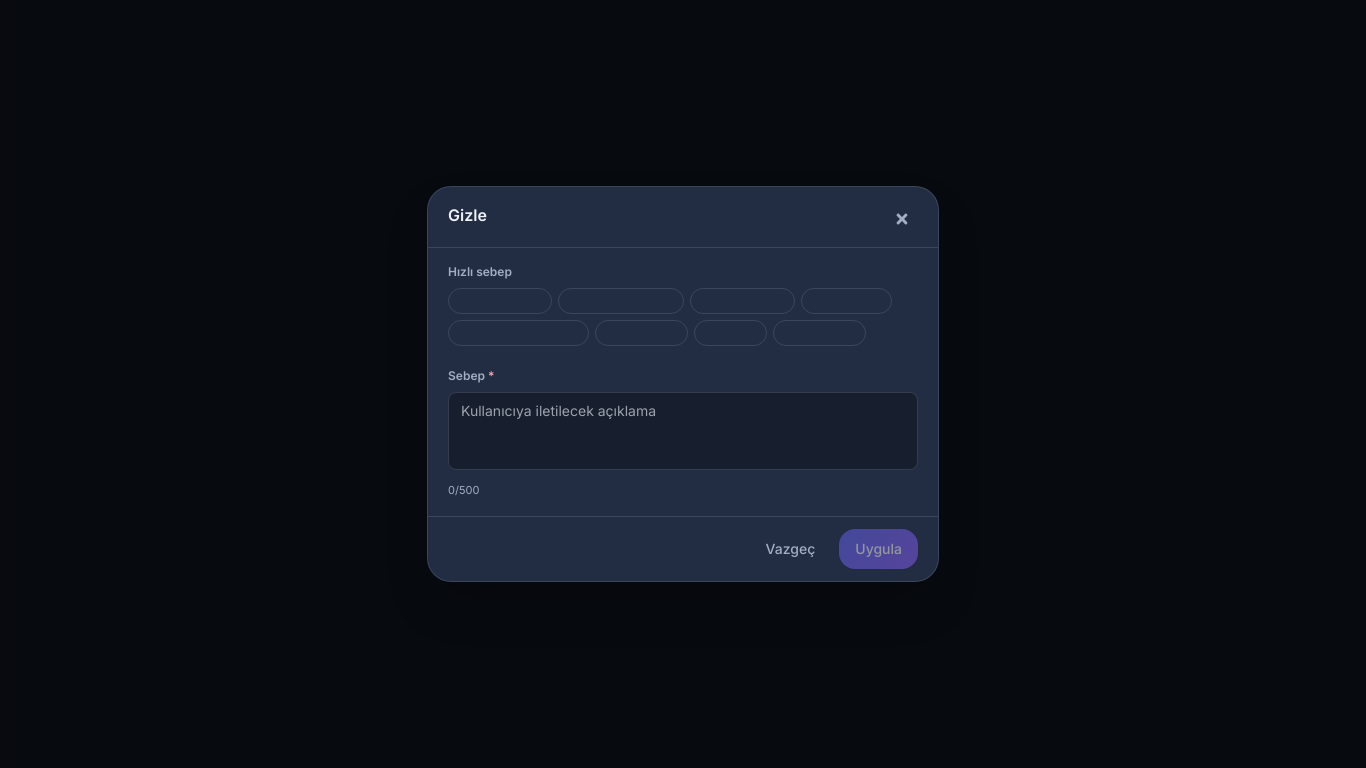
Test: ReasonDialog › sebep 3 karakterden kısaysa gönderilemez
The width and height of the screenshot is (1366, 768).
Expected: the button with test id "reason-submit" is disabled, [839,529,918,569]
Type "ab" into the text box with test id "reason-input" at (683, 431), box [448,392,918,470]
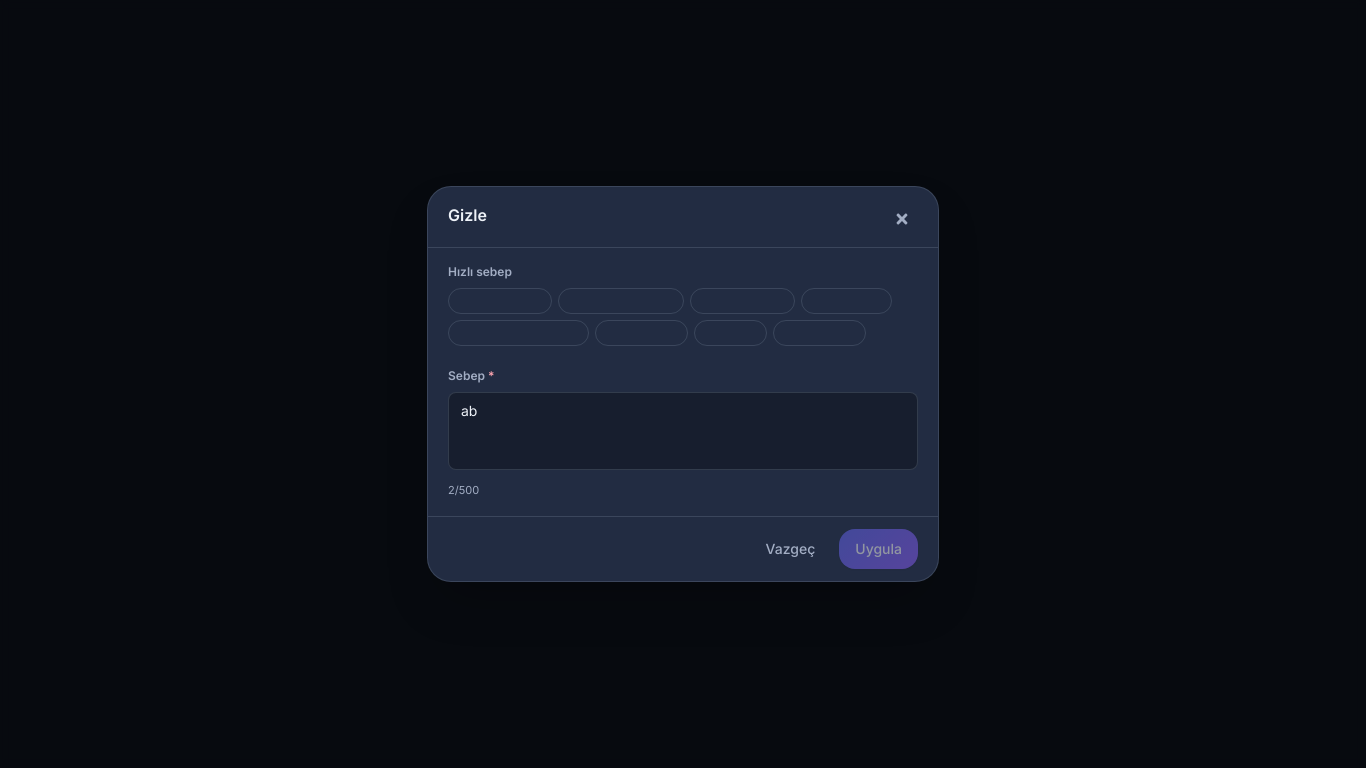
Expected: the button with test id "reason-submit" is disabled, [839,529,918,569]
Replace the text in the text box with test id "reason-input" with "Spam" at (683, 431), box [448,392,918,470]
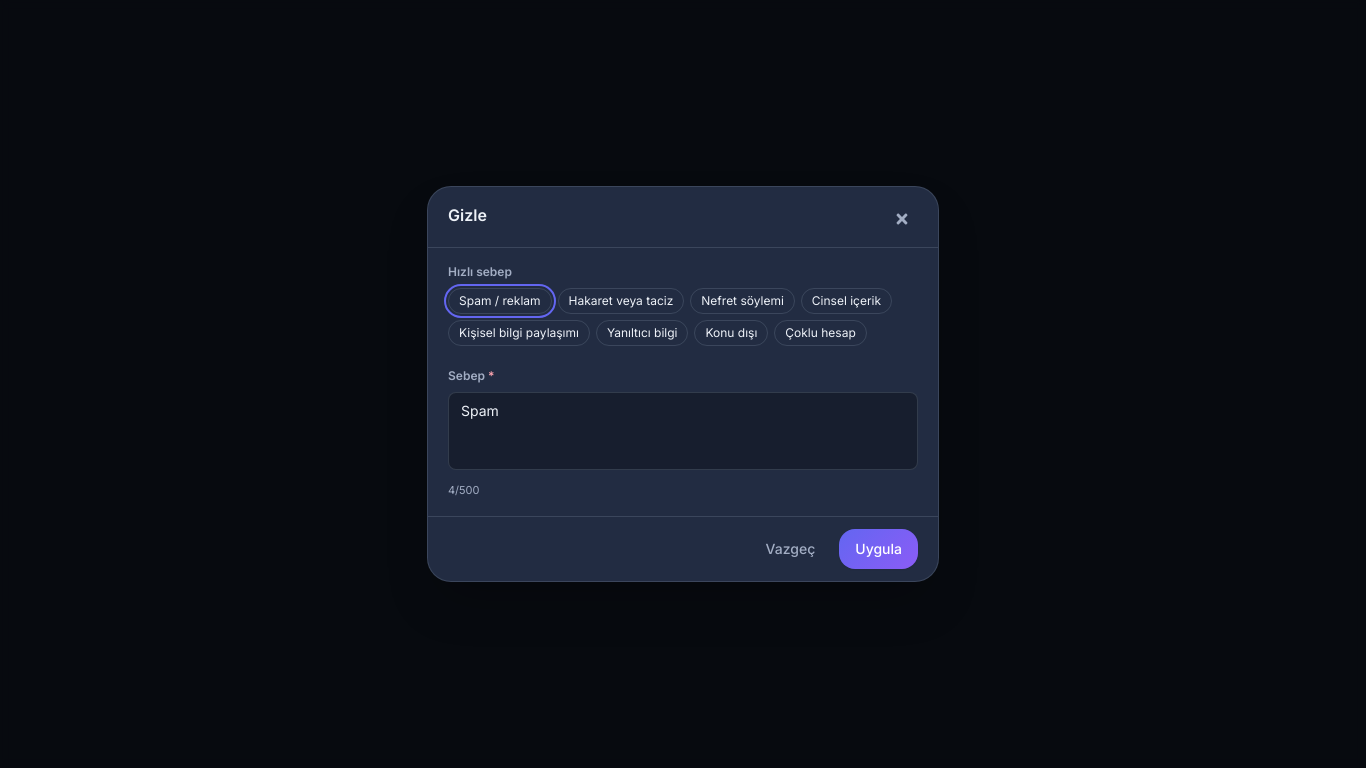
Now the button with test id "reason-submit" is enabled, box [839,529,918,569]
